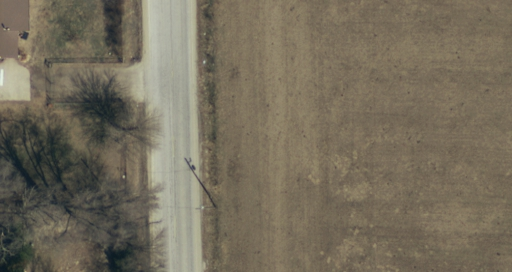DT: (191, 196, 225, 219)
